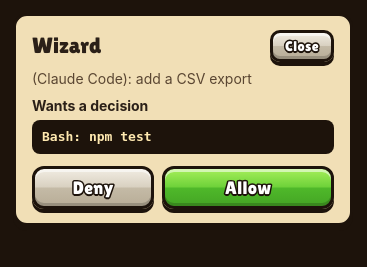
a failed send says why and gives the buttons back
What coordinates should you click on to do the following:
click the button "Deny"
I would click on:
 (93, 188)
Its box is [32, 166, 154, 209].
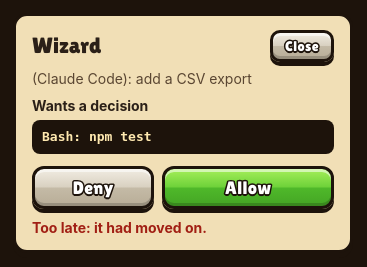
Result: the message reads "Too late: it had moved on." at [32, 219, 207, 236]
